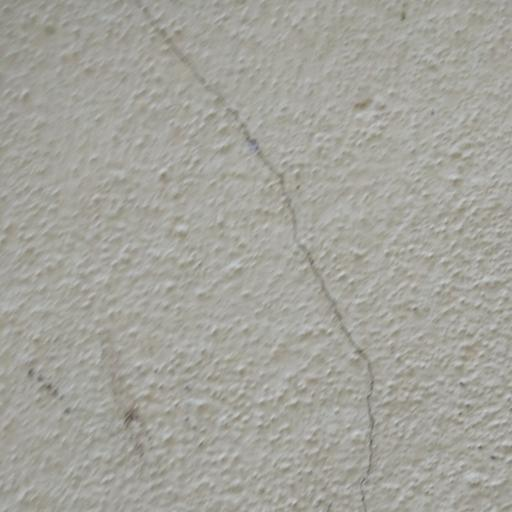minor_crack: (124, 0, 381, 512)
